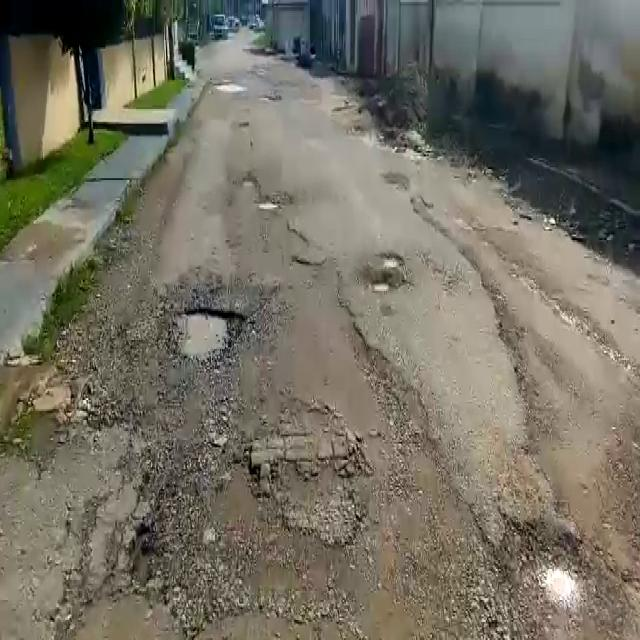Pothole: (168, 307, 250, 362), (378, 251, 405, 269), (368, 276, 390, 294), (256, 199, 284, 212), (242, 178, 256, 190)
